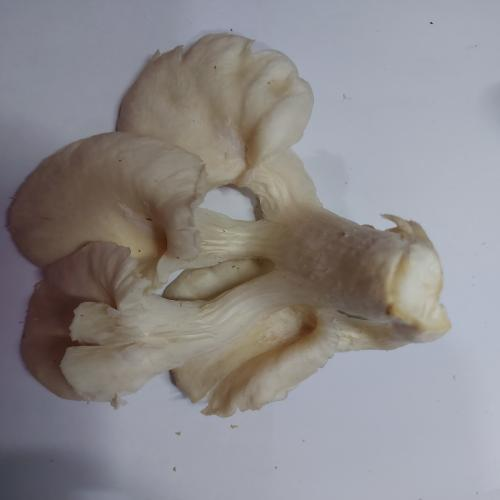Oyster Mushroom: (7, 32, 452, 418)
